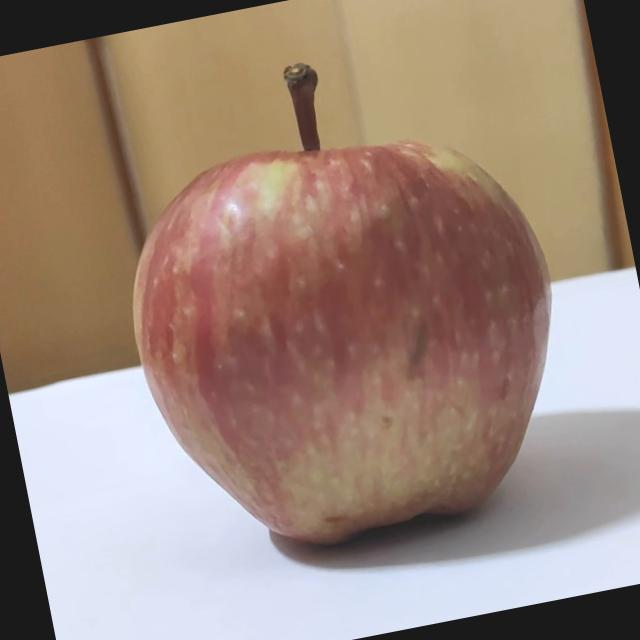apple: (87, 17, 598, 580)
